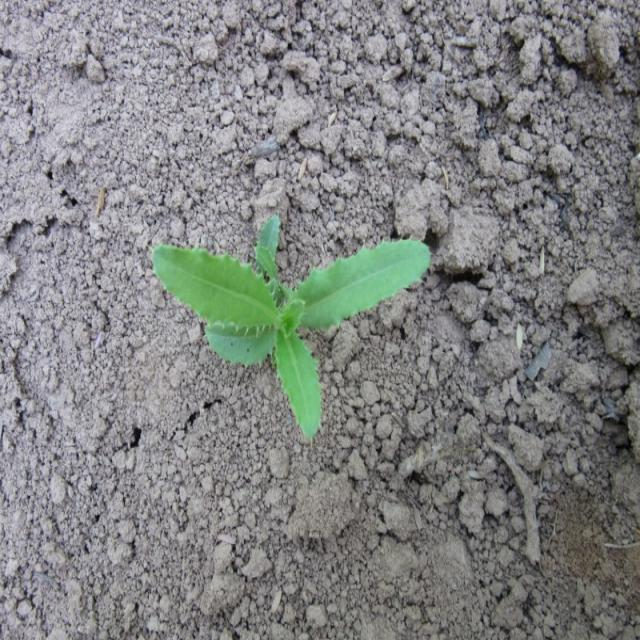field_thistle: (124, 208, 432, 442)
